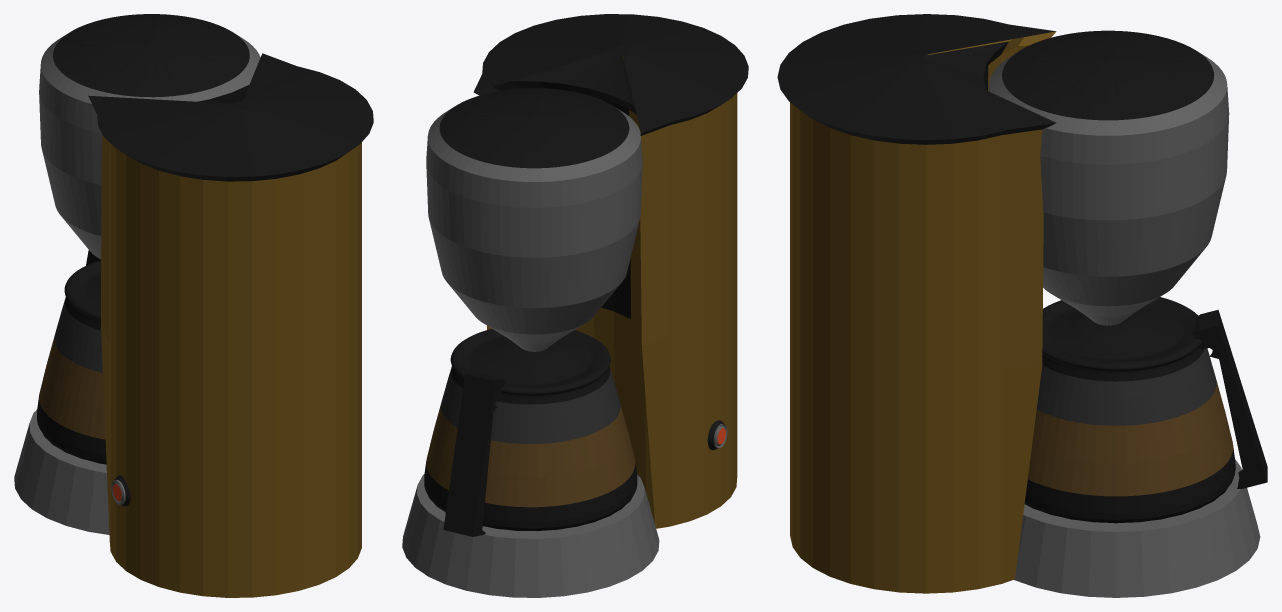
The model's file is skeerekoffie.fbx.
The picture shows the model from 3 angles, left to right: view 1: azimuth 30°, elevation 25°; view 2: azimuth 150°, elevation 25°; view 3: azimuth 270°, elevation 25°; orthographic projection. The views are drawn at different scales.
Visible parts, largest first — view 1: Cylinder.001, Cylinder.004, Cylinder.005, Cylinder; view 2: Cylinder.001, Cylinder.004, Cylinder.005, Cylinder, Cube; view 3: Cylinder.001, Cylinder.004, Cylinder.005, Cylinder, Cube.
Boxes of the visible parts, x1,y1,x2,y2 form: Cylinder.001: (88, 53, 373, 597); Cylinder.004: (39, 14, 260, 259); Cylinder.005: (37, 261, 106, 464); Cylinder: (14, 409, 109, 534); Cylinder.001: (473, 14, 748, 528); Cylinder.004: (426, 88, 642, 351); Cylinder.005: (424, 329, 637, 531); Cylinder: (402, 474, 659, 597); Cube: (443, 371, 505, 536); Cylinder.001: (777, 14, 1056, 593); Cylinder.004: (988, 30, 1229, 325); Cylinder.005: (1024, 297, 1235, 523); Cylinder: (1014, 459, 1260, 597); Cube: (1192, 309, 1267, 488).
Size of the model in its own units: 382 by 674 by 626.
